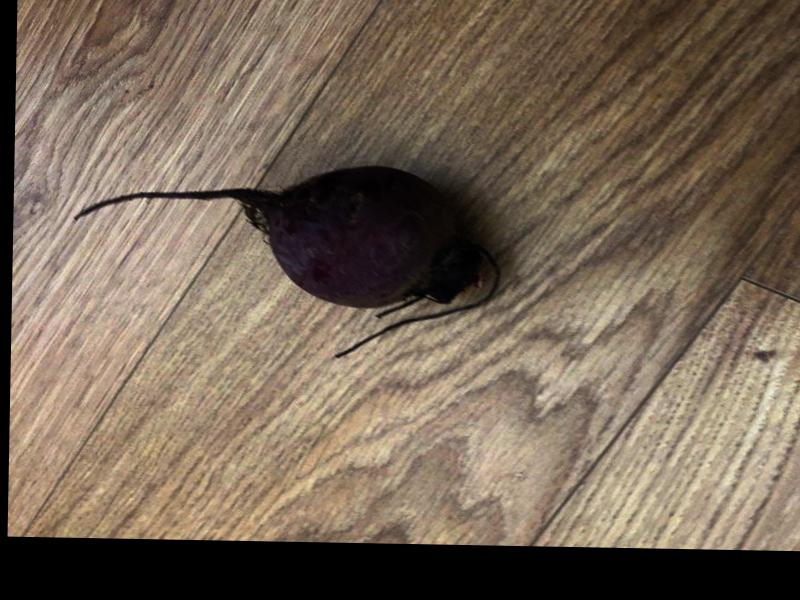Beet: (70, 159, 501, 360)
